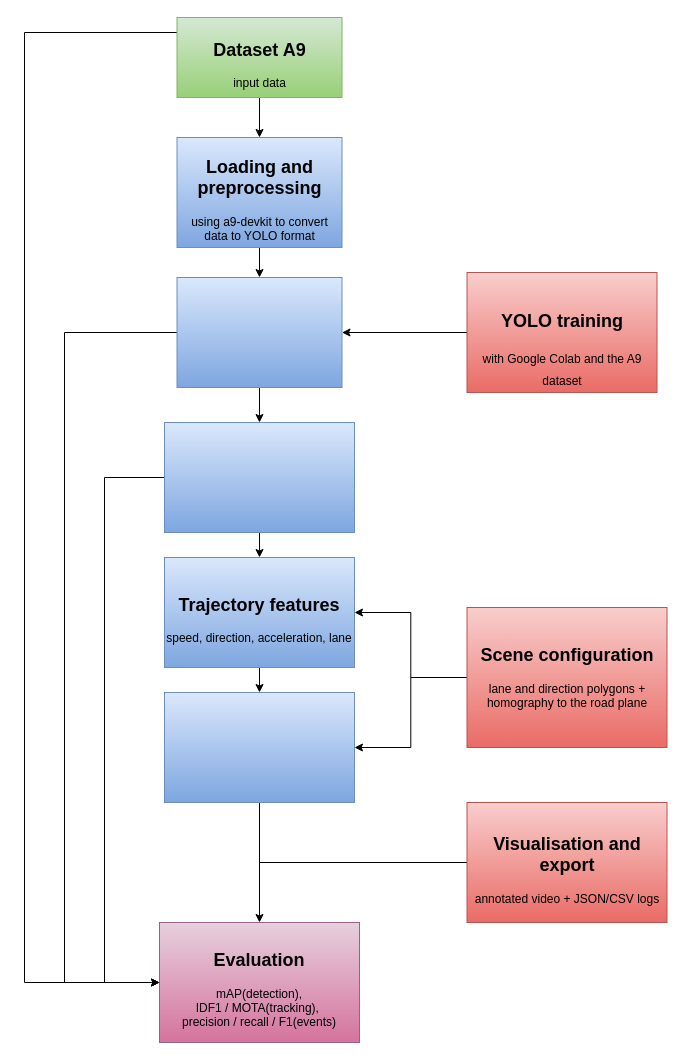
Image size: 685x1060. Some labels were removed from this diagram. The shapes that lost their labels are listed below. From the top down, each one's centre as x and y in pixels, then its label:
At point 259,332: "Vehicle detection 2D boxing and classification".
At point 259,477: "Multi-object tracking ByteTrack framework + BoT-SORT".
At point 259,747: "Event detection stopped, wrong way, congestion, sudden braking".
